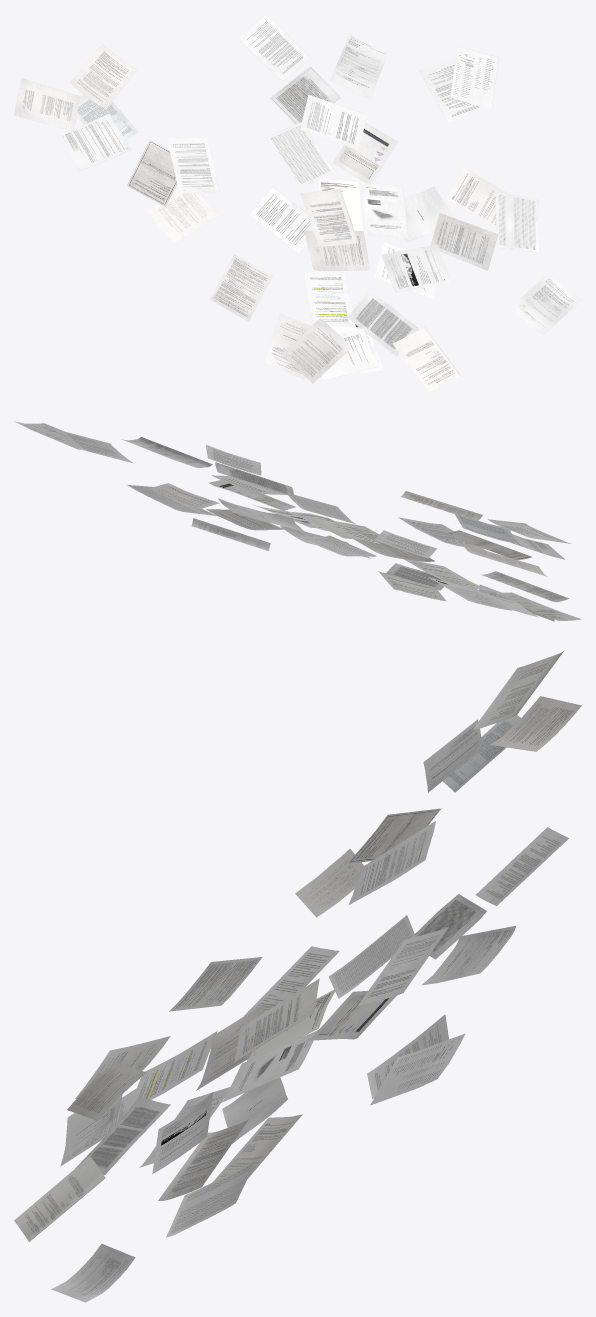
Rendered from Scattered Paper.glb.
3 views of the same model, one above another, from view 1: azimuth 30°, elevation 25°; view 2: azimuth 150°, elevation 25°; view 3: azimuth 270°, elevation 25° (orthographic). The views are drawn at different scales.
Visible parts, largest first — view 1: papers_scattered; view 2: papers_scattered; view 3: papers_scattered.
Part boxes in pixels (x1,y1,x2,y2): papers_scattered: [14, 14, 581, 392]; papers_scattered: [15, 421, 580, 621]; papers_scattered: [14, 650, 581, 1302].
Bounding box in the file's own units: 2.5 × 1.31 × 1.69.
Materials: 1 (1 with a texture image).
